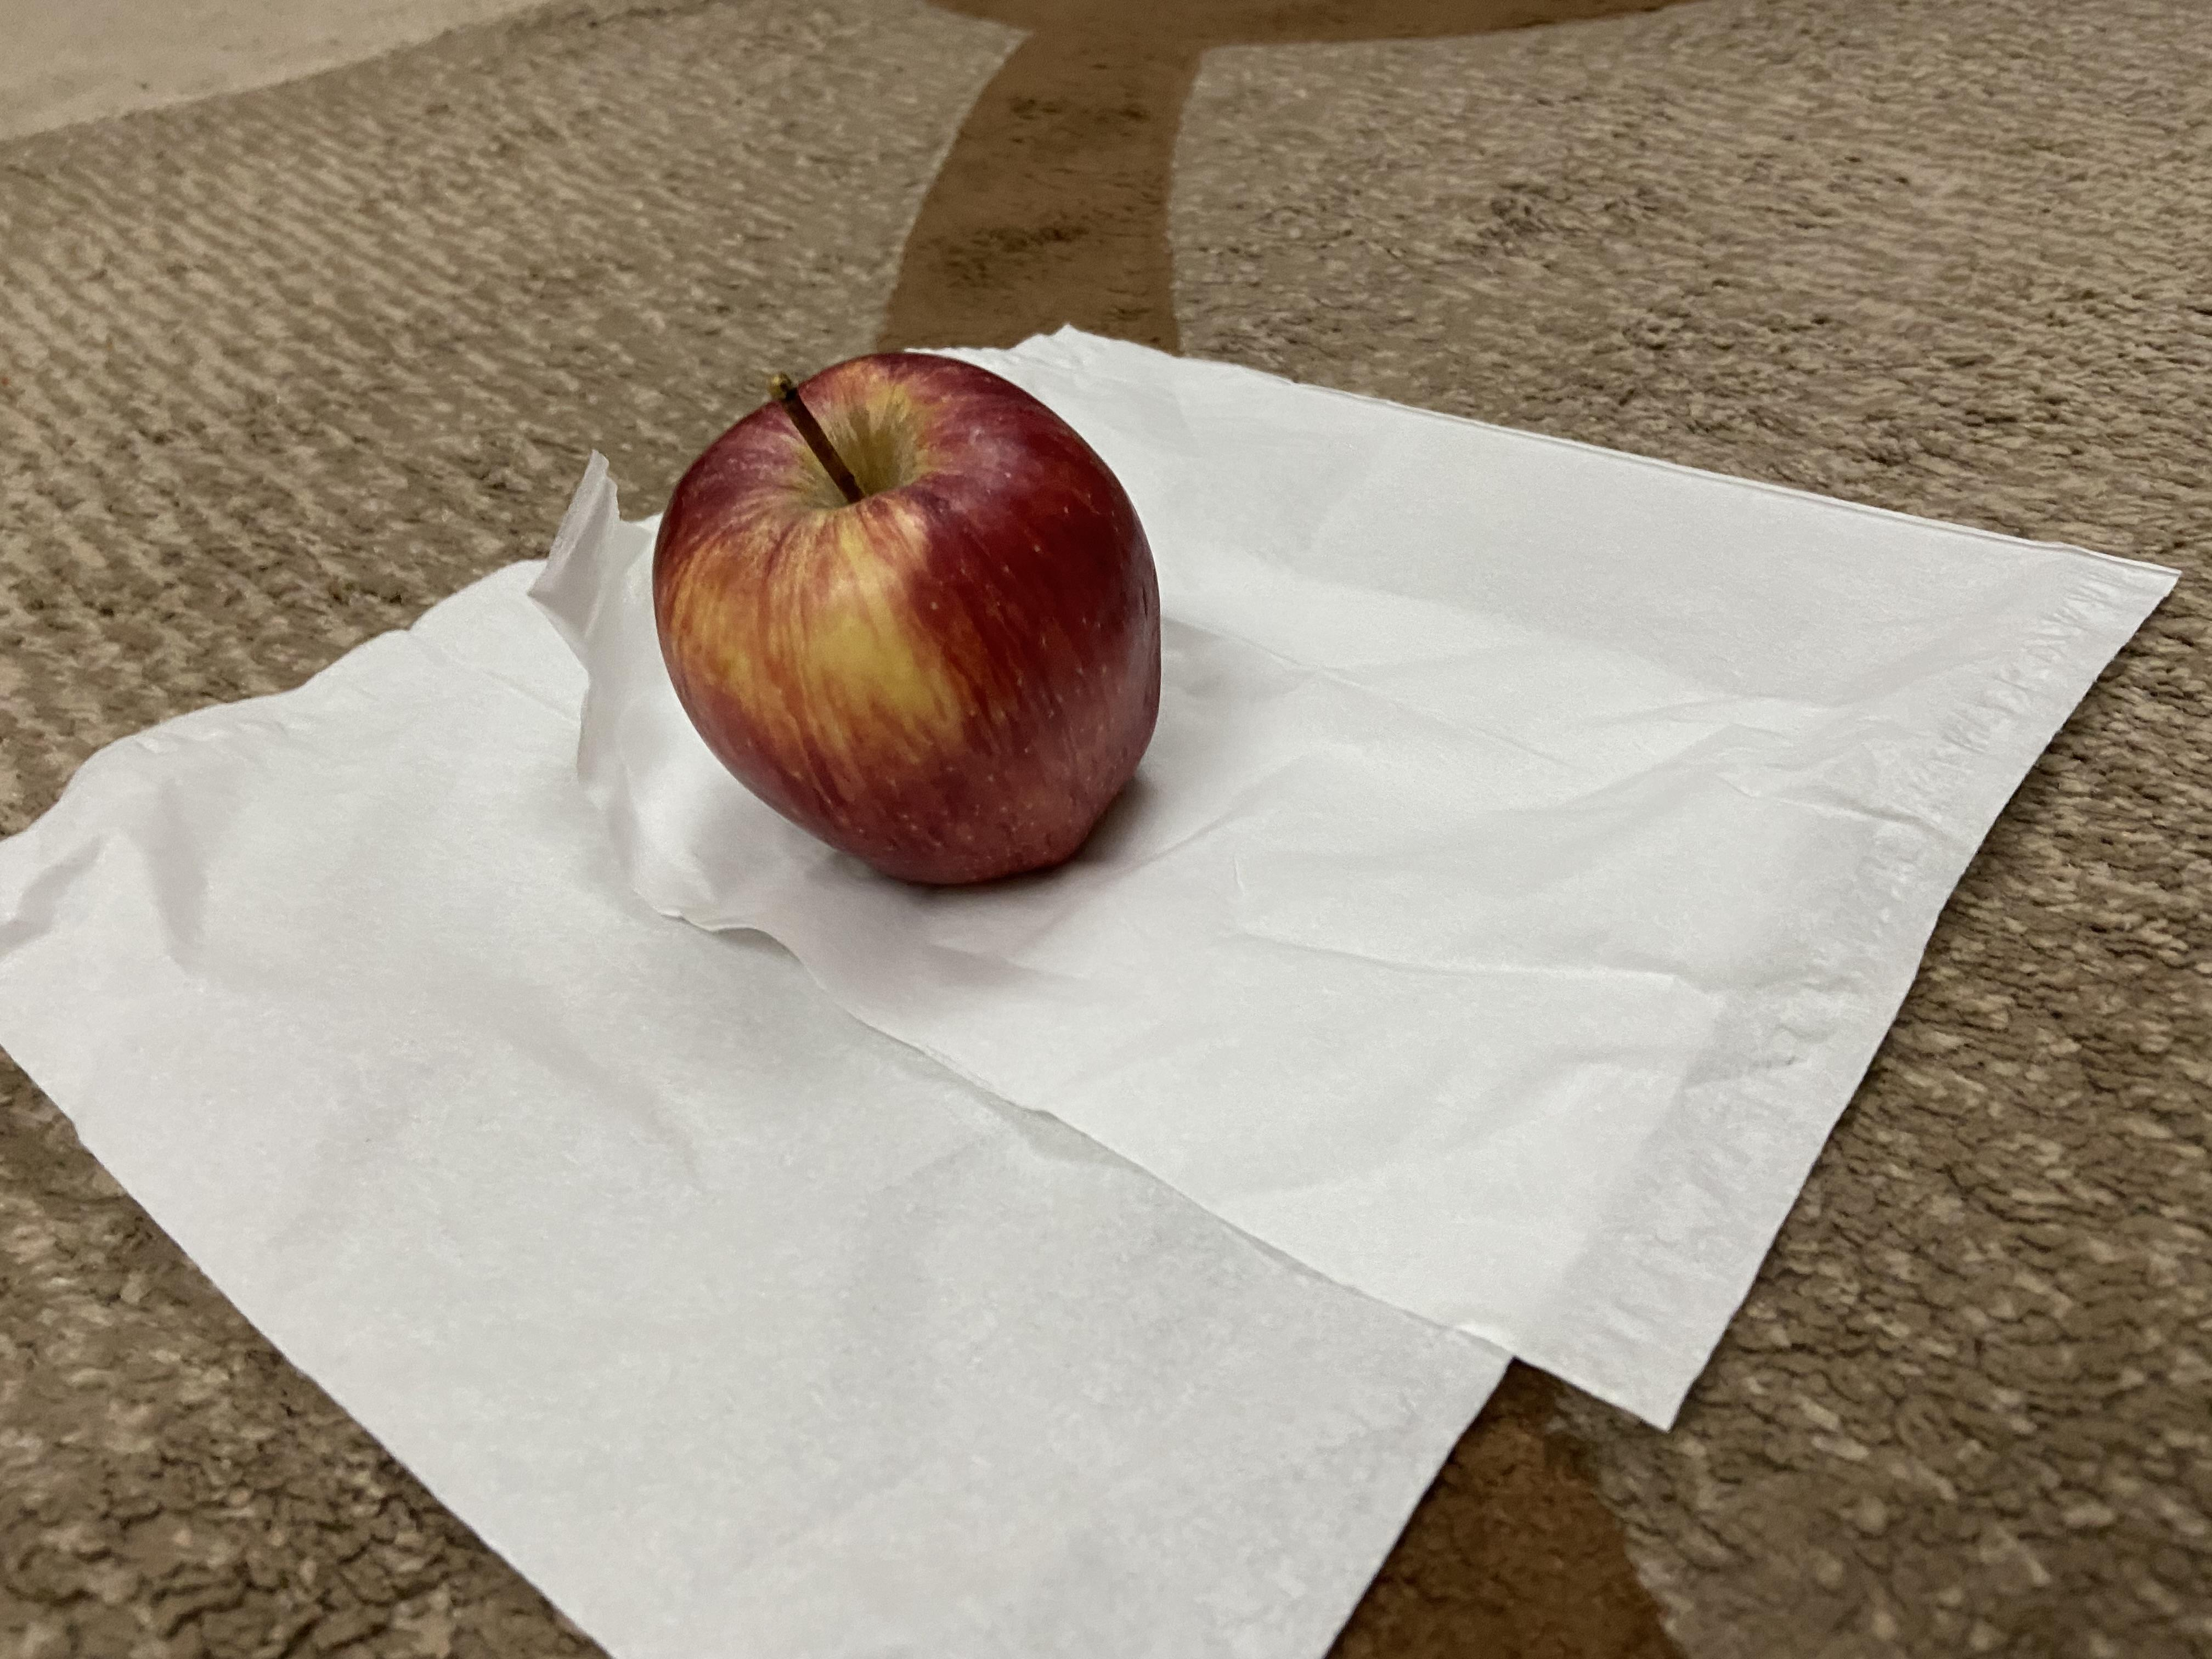Apple: (655, 340, 1181, 889)
